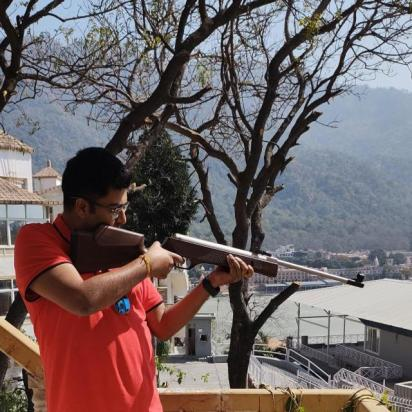Gun: (68, 220, 367, 290)
